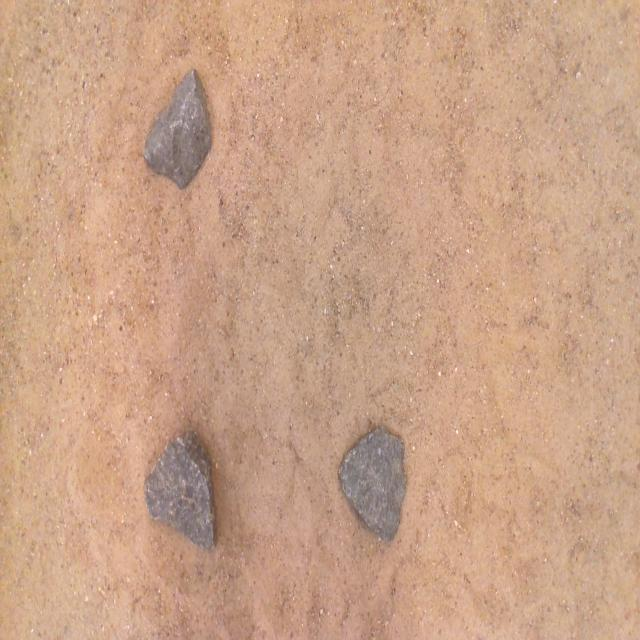rock: (144, 431, 215, 548), (144, 69, 211, 188), (339, 428, 406, 540)
